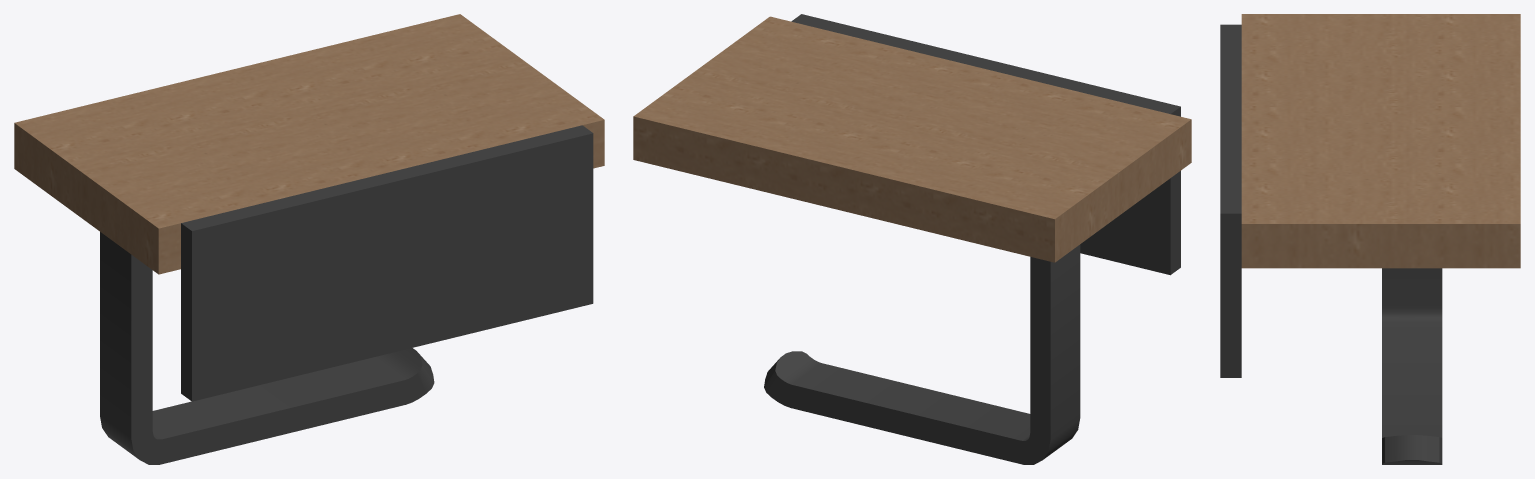
The model's file is TissueHanger02.fbx.
The picture shows the model from 3 angles, left to right: view 1: azimuth 30°, elevation 25°; view 2: azimuth 150°, elevation 25°; view 3: azimuth 270°, elevation 25°; orthographic projection. The views are drawn at different scales.
Visible parts, largest first — view 1: TissueHanger02; view 2: TissueHanger02; view 3: TissueHanger02.
Part boxes in pixels (x1,y1,x2,y2): TissueHanger02: (14,14,604,464); TissueHanger02: (633,14,1191,464); TissueHanger02: (1220,14,1520,464).
Bounding box in the file's own units: 22.48 × 14.8 × 13.58.
